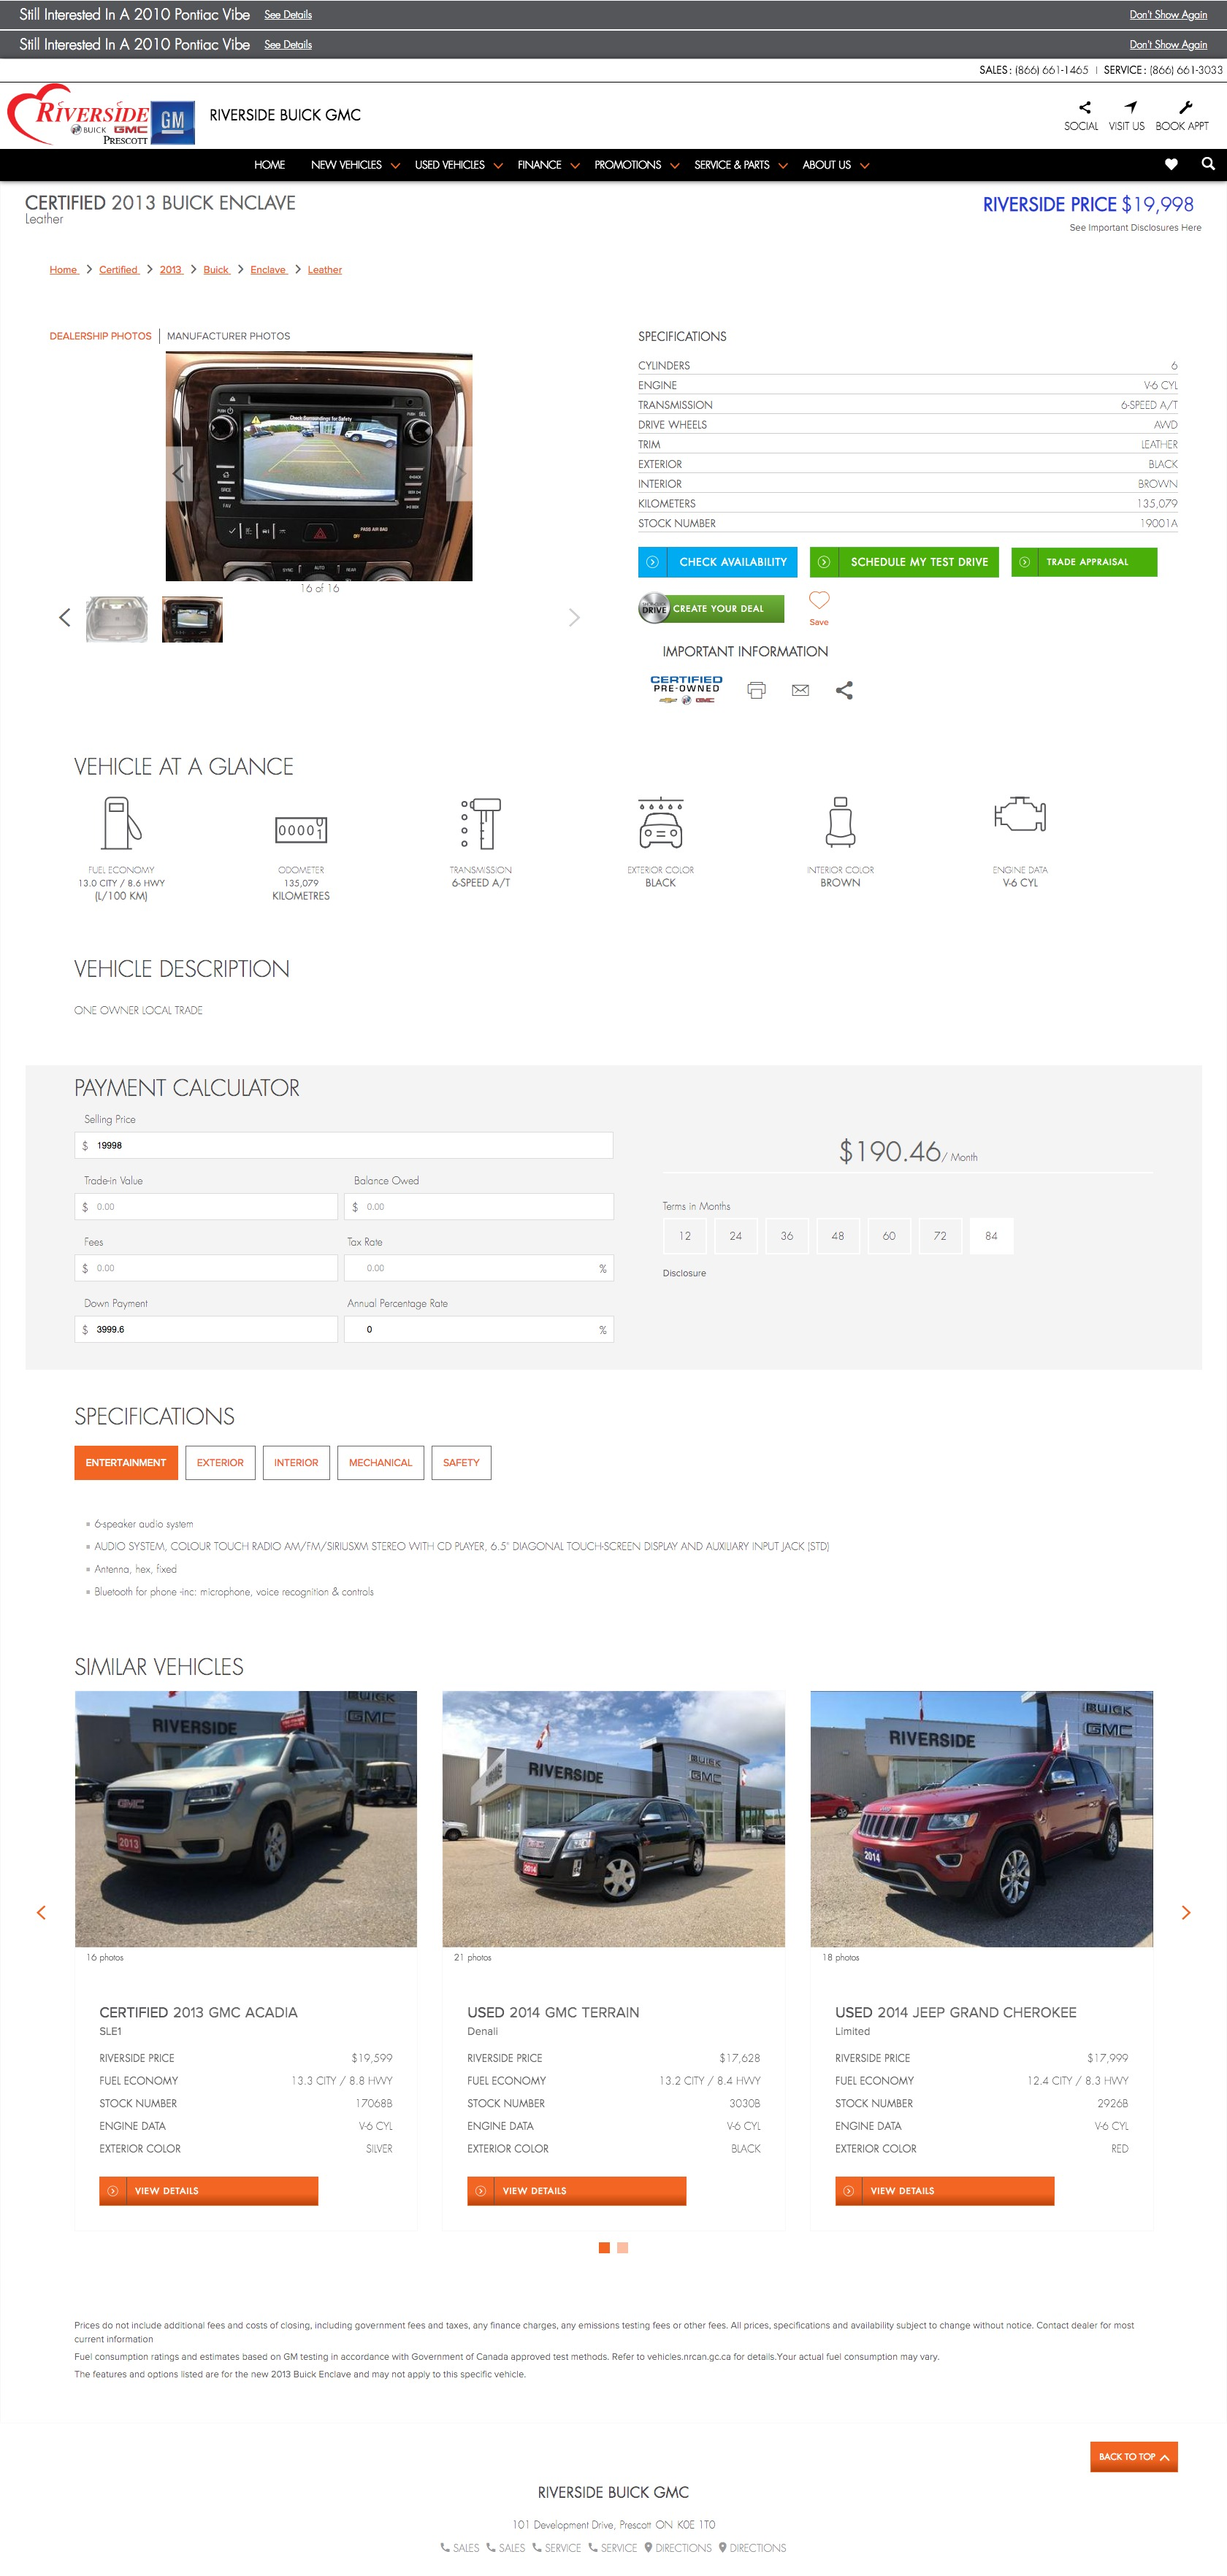car: (568, 608, 580, 628)
